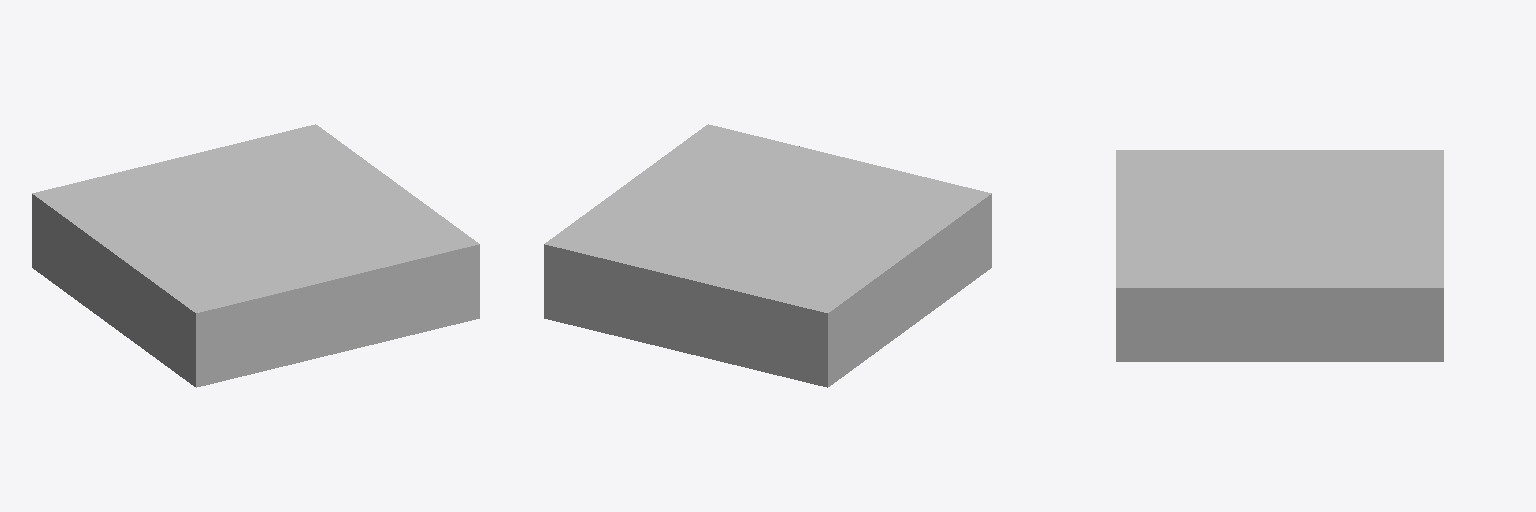
The model's file is farmland 4x4.obj.
3 views of the same model, side by side, from view 1: azimuth 30°, elevation 25°; view 2: azimuth 150°, elevation 25°; view 3: azimuth 270°, elevation 25° (orthographic).
Parts seen in each view (by area): view 1: Cube; view 2: Cube; view 3: Cube.
Part boxes in pixels (x1,y1,x2,y2): Cube: (32, 124, 479, 387); Cube: (544, 124, 991, 387); Cube: (1116, 150, 1443, 361).
Bounding box in the file's own units: 2 × 0.5 × 2.